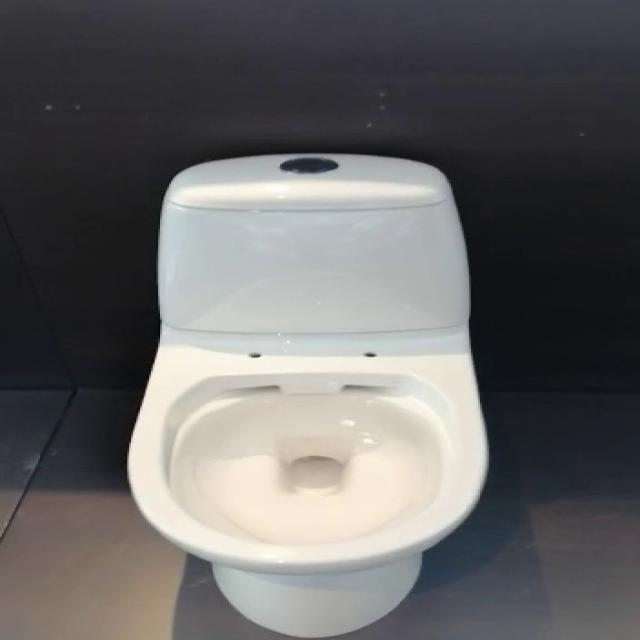toilet: (121, 145, 500, 640)
